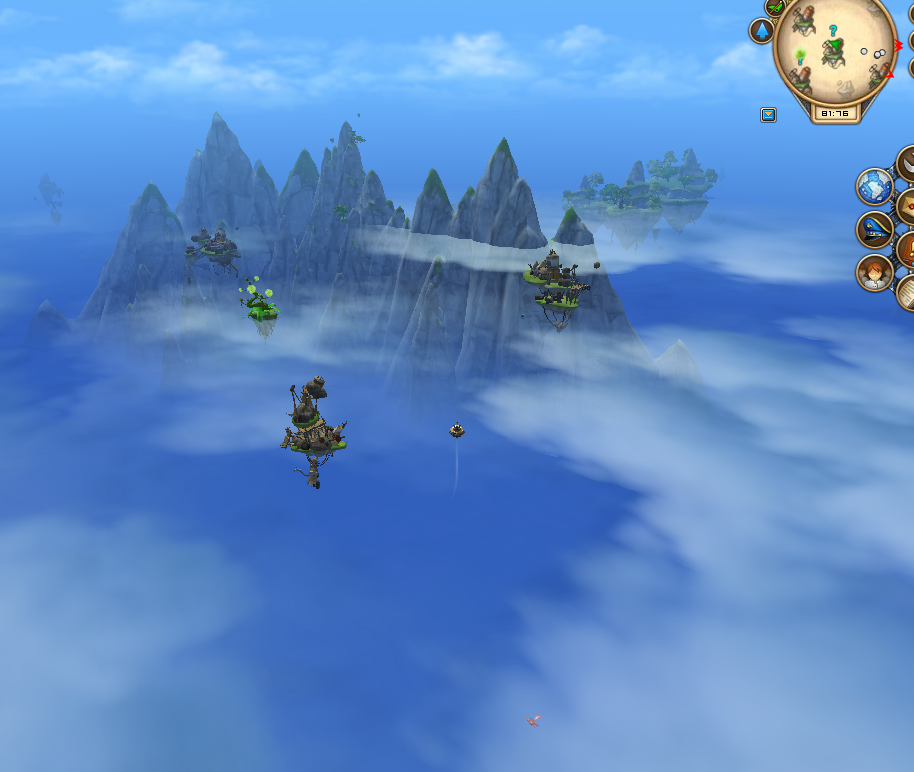dandelion-full: (232, 269, 282, 331)
